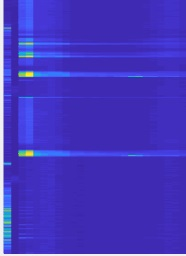leak: (18, 92, 61, 145), (14, 2, 44, 36)
